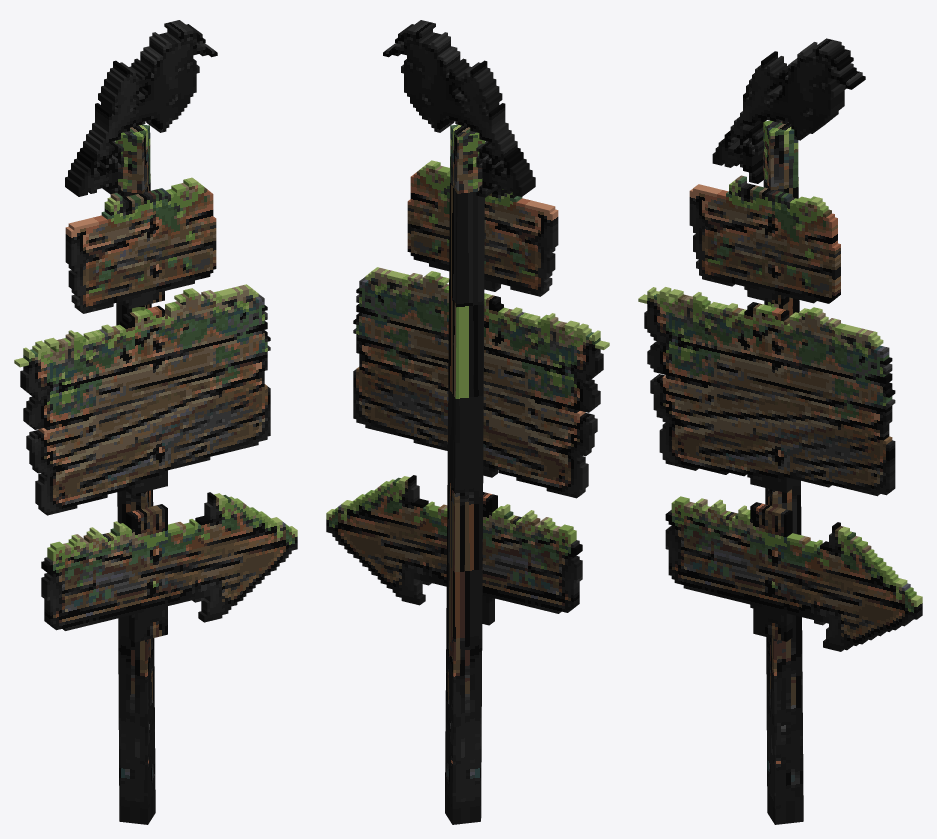
File: fingerpost.glb
3 views of the same model, side by side, from view 1: azimuth 30°, elevation 25°; view 2: azimuth 150°, elevation 25°; view 3: azimuth 330°, elevation 25° (orthographic).
Visible parts, largest first — view 1: fingerpost-212-6; view 2: fingerpost-212-6; view 3: fingerpost-212-6.
Boxes of the visible parts, <box> form: fingerpost-212-6: <box>14,20,297,824</box>; fingerpost-212-6: <box>326,20,609,824</box>; fingerpost-212-6: <box>638,38,922,824</box>.
Bounding box in the file's own units: 1.15 × 3.09 × 0.1803.
Materials: 1 (1 with a texture image).
